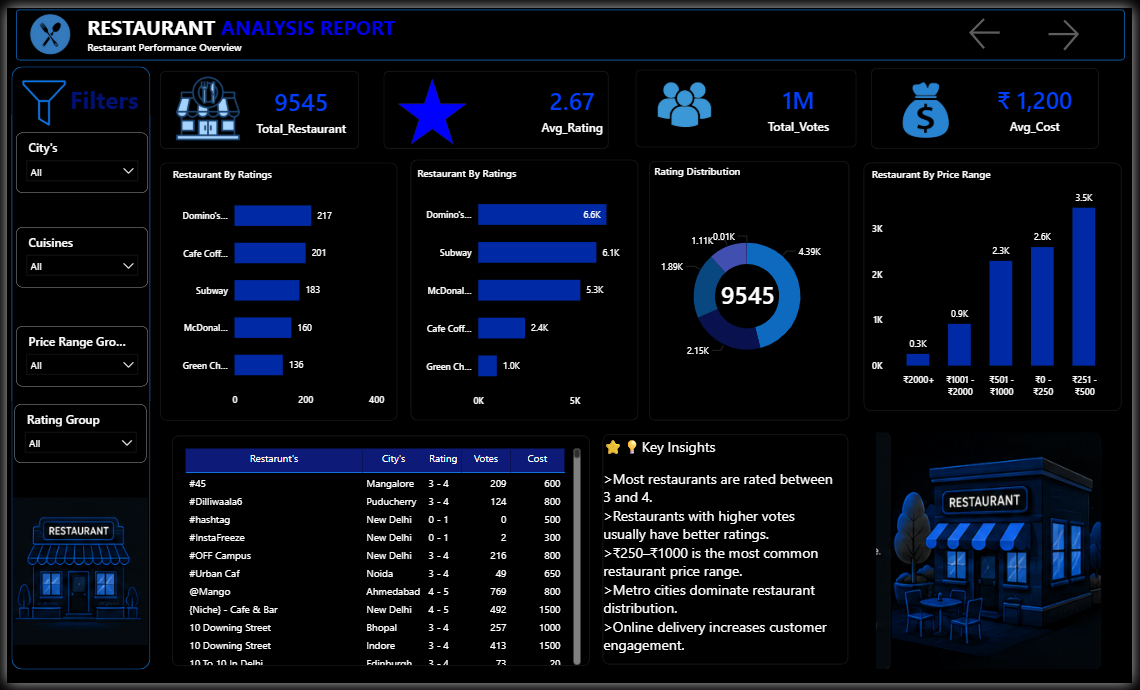

Layout of this report page (visuals, bound fields, positions):
{"tool":"powerbi","page":{"name":"Restaurant_Overview","canvas":[1500,900],"ordinal":1},"visuals":[{"type":"shape","box":[11,1.8,1478.4,67.9],"z":0},{"type":"textbox","box":[102.7,2.9,449,63.1],"z":1000},{"type":"shape","box":[5.5,77,185,804],"z":2000},{"type":"shape","box":[199.9,80.7,273.3,111.9],"z":3000},{"type":"shape","box":[498.9,80.7,308.2,111.9],"z":4000},{"type":"shape","box":[834.6,77,302.7,111.9],"z":5000},{"type":"shape","box":[1148.3,75.2,311.8,115.6],"z":6000},{"type":"shape","box":[199.9,201.8,324.7,352.2],"z":7000},{"type":"shape","box":[533.8,198.1,311.8,355.8],"z":8000},{"type":"shape","box":[851.1,199.9,275.1,354],"z":9000},{"type":"shape","box":[1137.3,201.8,352.2,339.3],"z":10000},{"type":"shape","box":[216.4,566.8,565,315.5],"z":11000},{"type":"shape","box":[790.6,565,335.7,315.5],"z":12000},{"type":"card","fields":{"Values":["Measures_Table.Total_Restaurant"]},"box":[326.5,93.5,132.1,82.5],"z":13000},{"type":"card","fields":{"Values":["Measures_Table.Avg_Rating"]},"box":[697.1,93.8,110.5,81.8],"z":14000},{"type":"card","fields":{"Values":["Measures_Table.Total_Votes"]},"box":[999.7,91.7,110.1,82.5],"z":15000},{"type":"card","fields":{"Values":["Measures_Table.Avg_Cost"]},"box":[1304.2,91.7,132.1,82.5],"z":16000},{"type":"barChart","title":"Restaurant By Ratings","fields":{"Category":["Fact_Resturant.Restarunt Name"],"Y":["Sum(Fact_Resturant.Aggregate rating)"]},"box":[216.5,212.9,294.6,328.3],"z":17000},{"type":"barChart","title":"Restaurant By Ratings","fields":{"Category":["Fact_Resturant.Restarunt Name"],"Y":["Measures_Table.Total_Votes"]},"box":[542.9,209.1,291.7,332],"z":18000},{"type":"donutChart","title":"Rating Distribution","fields":{"Y":["CountNonNull(Fact_Resturant.Restaurant ID)"],"Category":["Fact_Resturant.Rating Group"]},"box":[858.4,207.3,256.8,333.8],"z":19000},{"type":"columnChart","title":"Restaurant By Price Range","fields":{"Y":["CountNonNull(Fact_Resturant.Switch to order menu)"],"Category":["Fact_Resturant.Price Range Group"]},"box":[1148.3,212.8,332,315.5],"z":20000},{"type":"card","fields":{"Values":["Measures_Table.Total_Restaurant"]},"box":[922.7,342.5,131.3,81.6],"z":21000},{"type":"tableEx","fields":{"Values":["Fact_Resturant.Restarunt Name","Fact_Resturant.City's","Fact_Resturant.Rating Group","Sum(Fact_Resturant.Votes)","Sum(Fact_Resturant.Average Cost for two)"]},"box":[231.1,581.5,537.4,299],"z":22000},{"type":"textbox","box":[790.6,566.8,324.7,313.7],"z":23000},{"type":"image","box":[1137,565,352,315],"z":24000},{"type":"image","box":[7.3,638.3,179.8,225.6],"z":25000},{"type":"slicer","fields":{"Values":["Fact_Resturant.City's"]},"box":[11,166.9,176.1,80.7],"z":26000},{"type":"slicer","fields":{"Values":["Fact_Resturant.Cuisines"]},"box":[11,291.7,176.1,80.7],"z":27000},{"type":"slicer","fields":{"Values":["Fact_Resturant.Price Range Group"]},"box":[11,423.7,176.1,80.7],"z":28000},{"type":"slicer","fields":{"Values":["Fact_Resturant.Rating Group"]},"box":[9.2,528.3,176.1,78.9],"z":29000},{"type":"textbox","box":[73.4,93.5,106.4,53.2],"z":30000},{"type":"image","box":[0,93.5,99.1,66],"z":31000},{"type":"image","box":[18.3,1.8,78.9,66],"z":32000},{"type":"image","box":[210.9,89.9,115.6,88],"z":33000},{"type":"image","box":[511.8,91.7,110.1,91.7],"z":34000},{"type":"image","box":[851.1,86.2,102.7,86.2],"z":35000},{"type":"image","box":[1172.1,95.4,106.4,80.7],"z":36000},{"type":"actionButton","box":[1382.7,9.8,91.5,52.3],"z":36001},{"type":"actionButton","box":[1278.1,8.2,75.2,52.3],"z":36002}]}

Visuals, with their boxes in screenshot pixels (x1, y1, x2, y2), scaled from the page's 1500x900 canvas onto the 1140x690 screenshot:
shape: 8,1,1132,53
textbox: 78,2,419,51
shape: 4,59,145,675
shape: 152,62,360,148
shape: 379,62,613,148
shape: 634,59,864,145
shape: 873,58,1110,146
shape: 152,155,399,425
shape: 406,152,643,425
shape: 647,153,856,425
shape: 864,155,1132,415
shape: 164,435,594,676
shape: 601,433,856,675
card - Measures_Table.Total_Restaurant: 248,72,349,135
card - Measures_Table.Avg_Rating: 530,72,614,135
card - Measures_Table.Total_Votes: 760,70,843,134
card - Measures_Table.Avg_Cost: 991,70,1092,134
"Restaurant By Ratings" barChart: 165,163,388,415
"Restaurant By Ratings" barChart: 413,160,634,415
"Rating Distribution" donutChart: 652,159,848,415
"Restaurant By Price Range" columnChart: 873,163,1125,405
card - Measures_Table.Total_Restaurant: 701,263,801,325
tableEx - Fact_Resturant.Restarunt Name x Fact_Resturant.City's: 176,446,584,675
textbox: 601,435,848,675
image: 864,433,1132,675
image: 6,489,142,662
slicer - Fact_Resturant.City's: 8,128,142,190
slicer - Fact_Resturant.Cuisines: 8,224,142,286
slicer - Fact_Resturant.Price Range Group: 8,325,142,387
slicer - Fact_Resturant.Rating Group: 7,405,141,466
textbox: 56,72,137,112
image: 0,72,75,122
image: 14,1,74,52
image: 160,69,248,136
image: 389,70,473,141
image: 647,66,725,132
image: 891,73,972,135
actionButton: 1051,8,1120,48
actionButton: 971,6,1029,46
